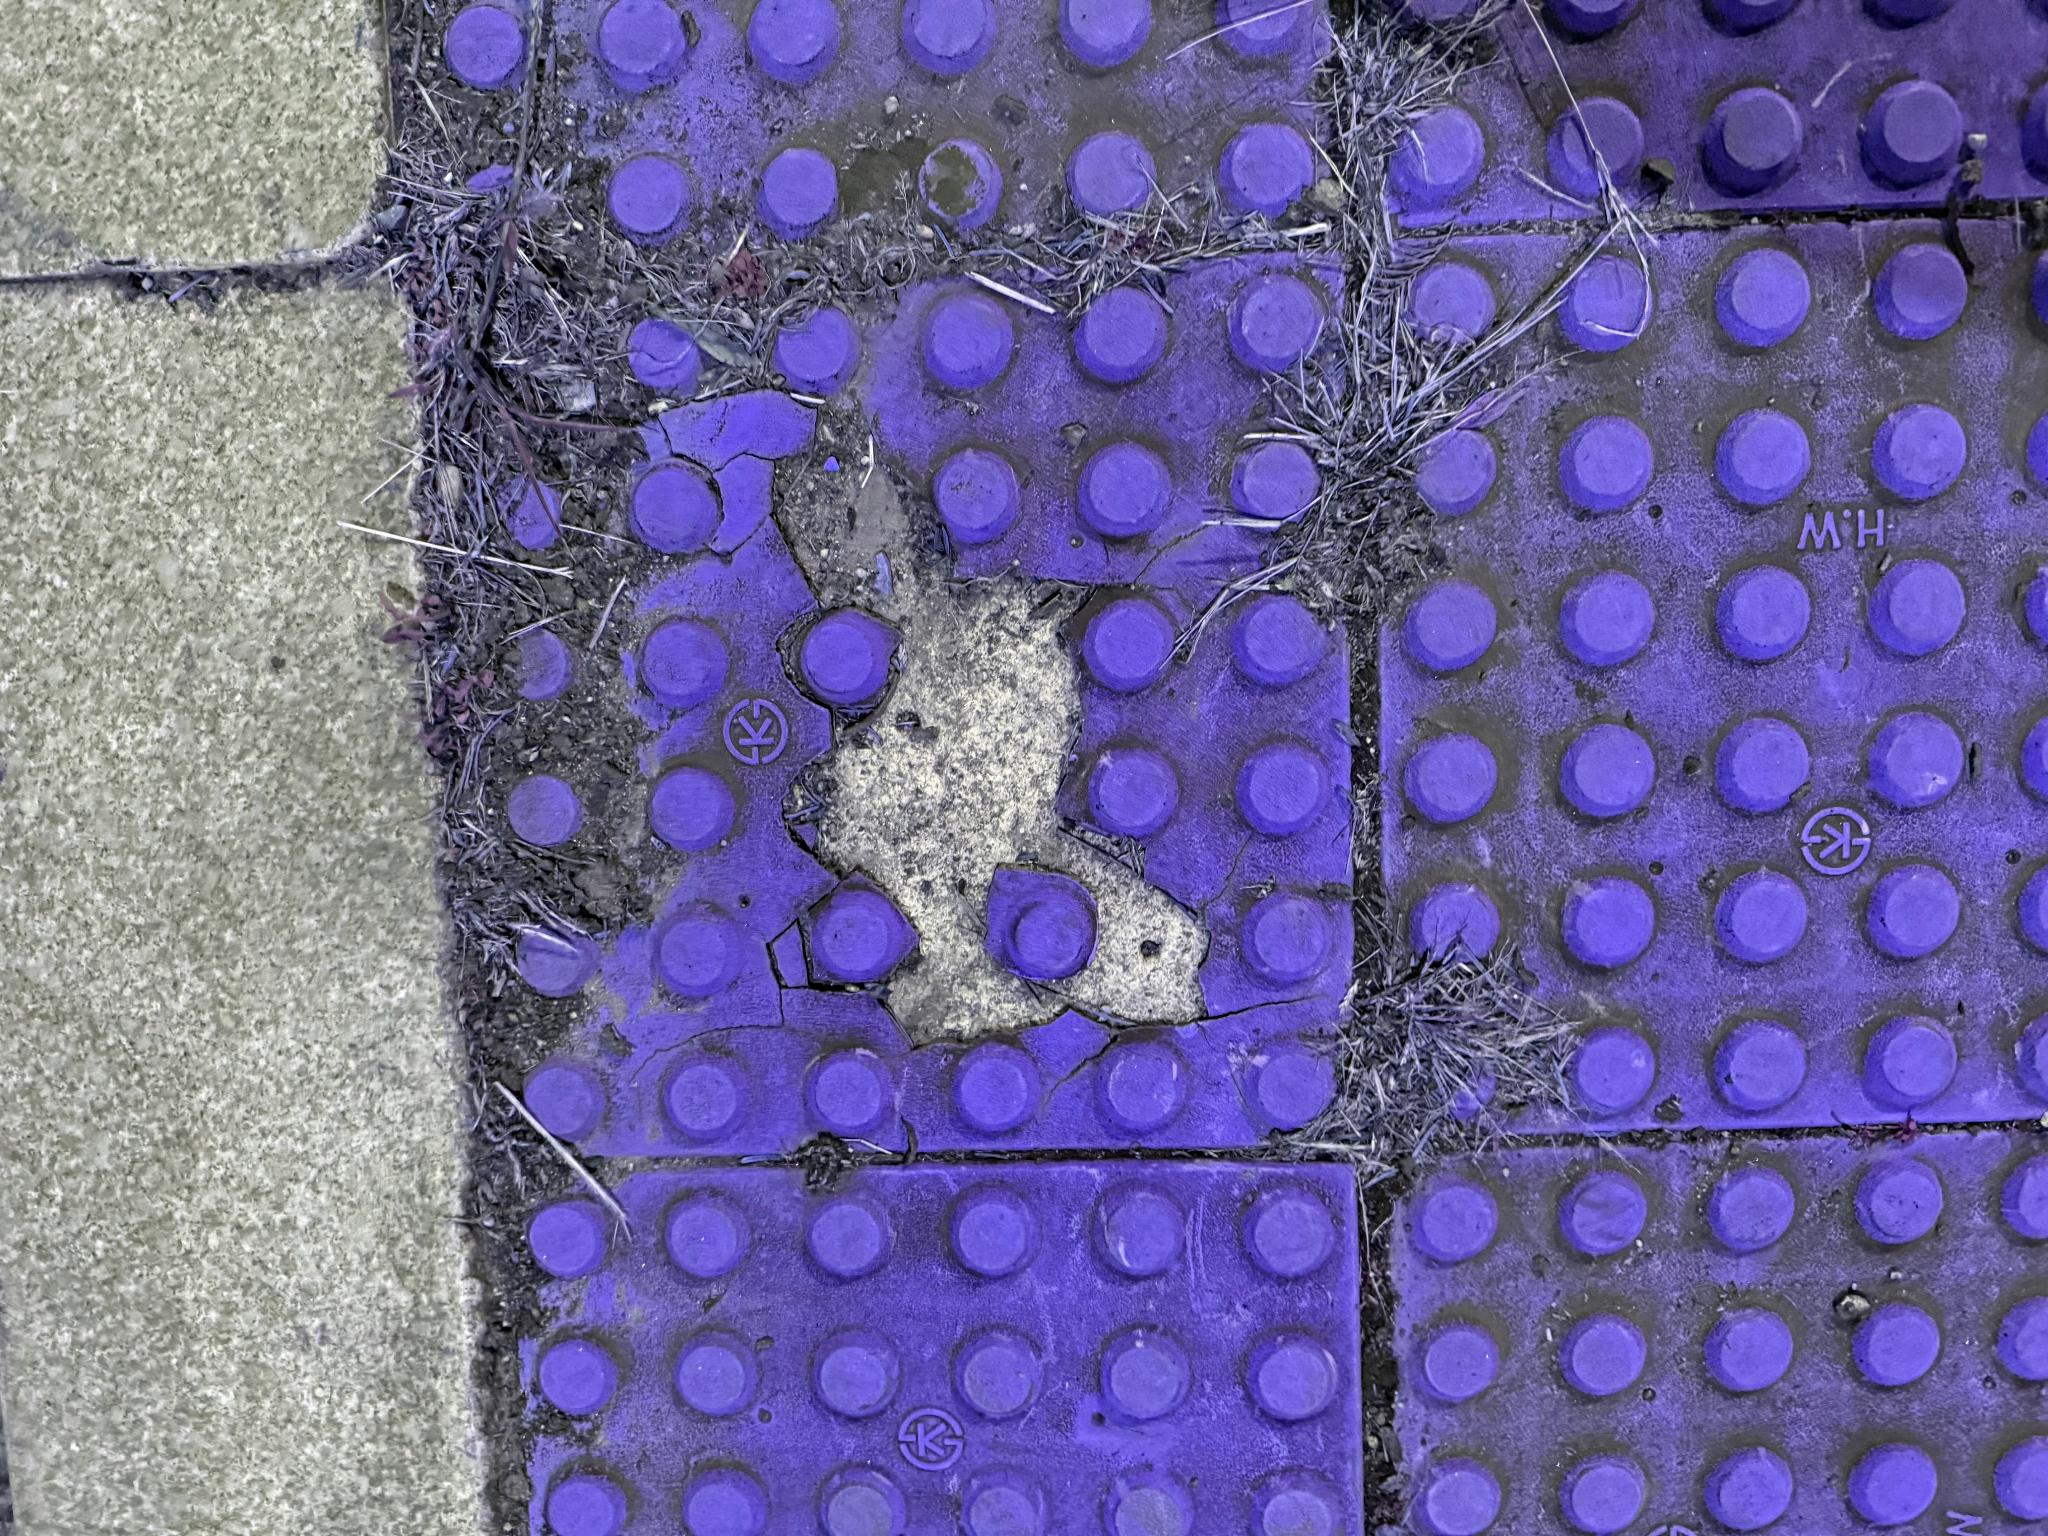Stop block broken: (381, 500, 1269, 1346)
